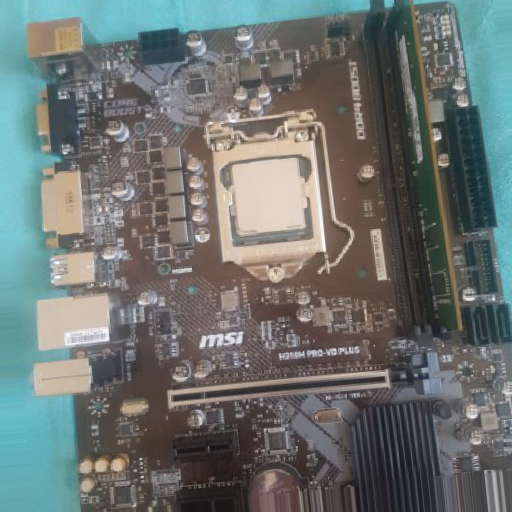CPU: (213, 109, 327, 282)
GPU: (168, 353, 443, 412)
MOTHERBOARD: (44, 5, 512, 504)
RAM: (365, 1, 462, 345)
